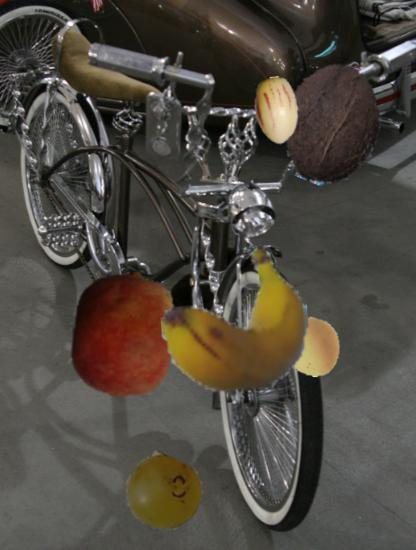Banana: (161, 248, 308, 395)
Cocos: (273, 64, 396, 187)
Grape: (125, 455, 202, 532)
Peach: (59, 271, 186, 398), (284, 317, 344, 377)
Pepino: (242, 77, 311, 146)
